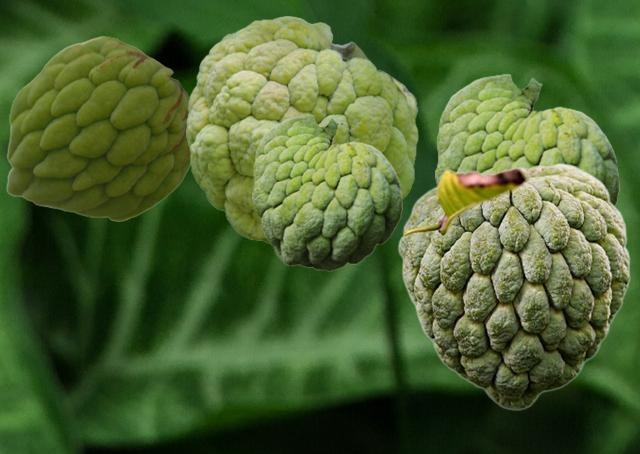atis: (397, 162, 629, 409), (186, 16, 417, 245), (6, 36, 190, 220), (435, 73, 618, 206), (252, 114, 401, 270)
